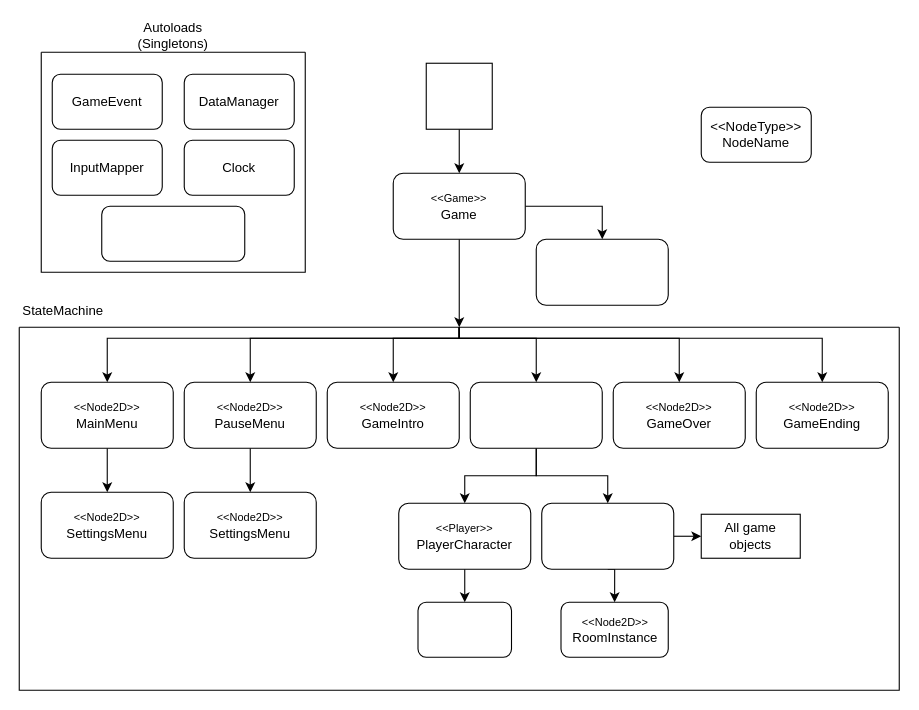
The diagram is 919 pixels wide and 710 high, and some of its shapes have lost their labels. Here are the shapes that lost their labels. From the top down, the centre of each, then its label:
(x=458, y=95): root node
(x=173, y=233): LocalizationManager
(x=601, y=271): <<CanvasLayer>> UserInterface
(x=535, y=414): <<MetSysGame>> GameWorld
(x=607, y=535): <<Node2D>> [InstancedRoom]
(x=464, y=629): <<Camera2D>> Camera
